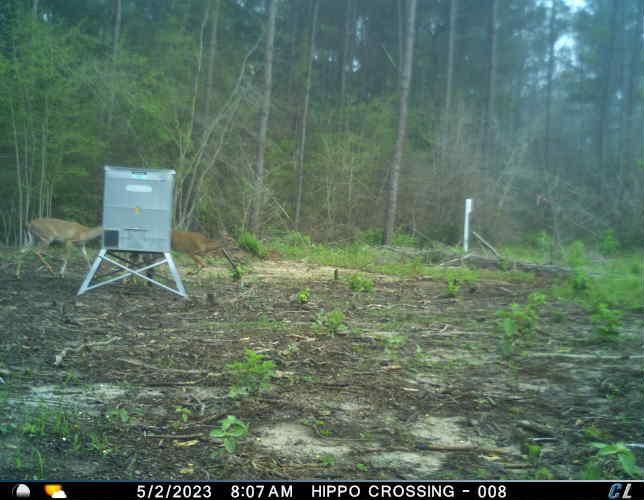Deer: (16, 214, 104, 281), (174, 226, 241, 271), (121, 251, 160, 290)
